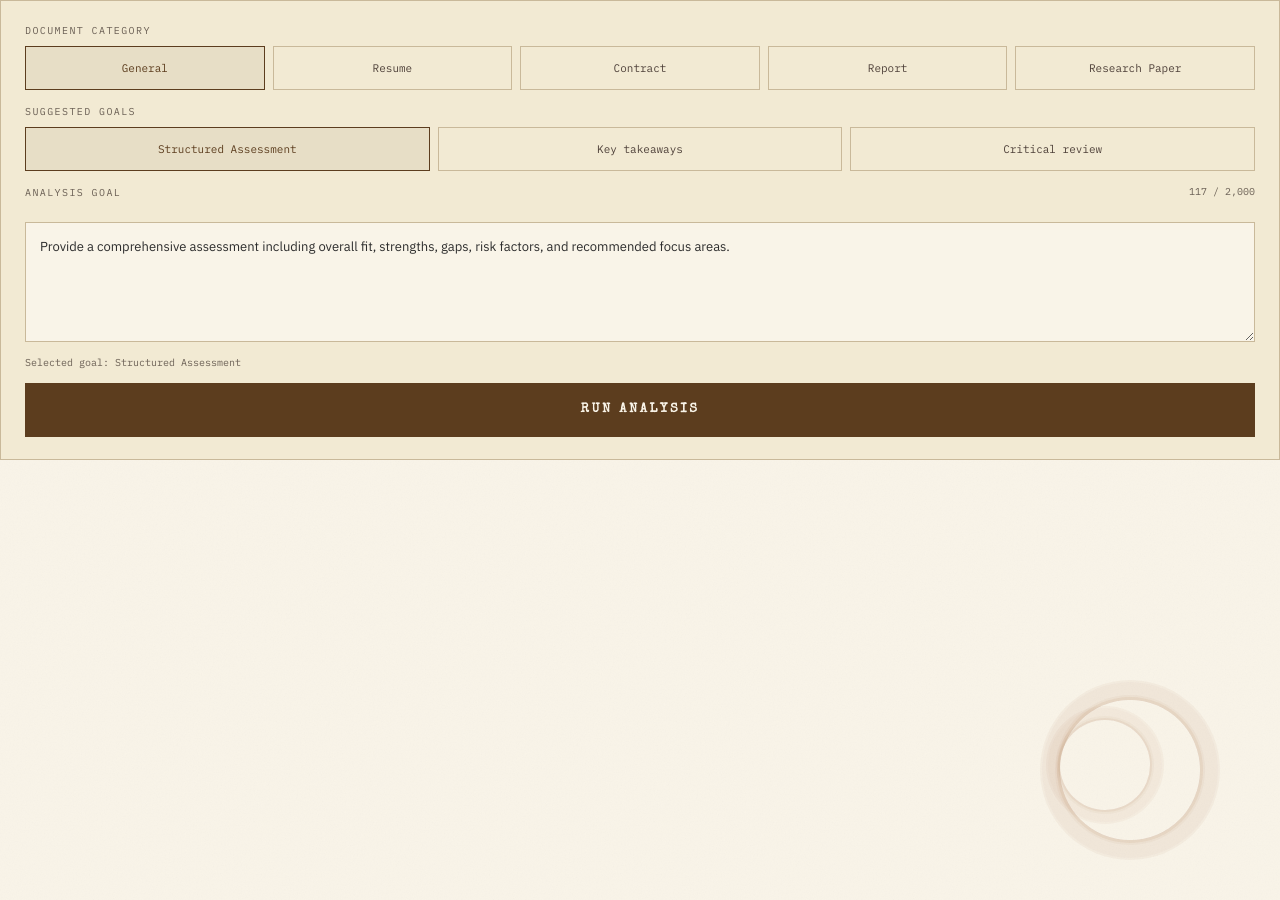
Test: AnalysisComposer › populates a category suggestion and marks manual edits as Custom
Click the button "Contract" at (640, 68), box top-left (520, 46), bottom-right (760, 90)
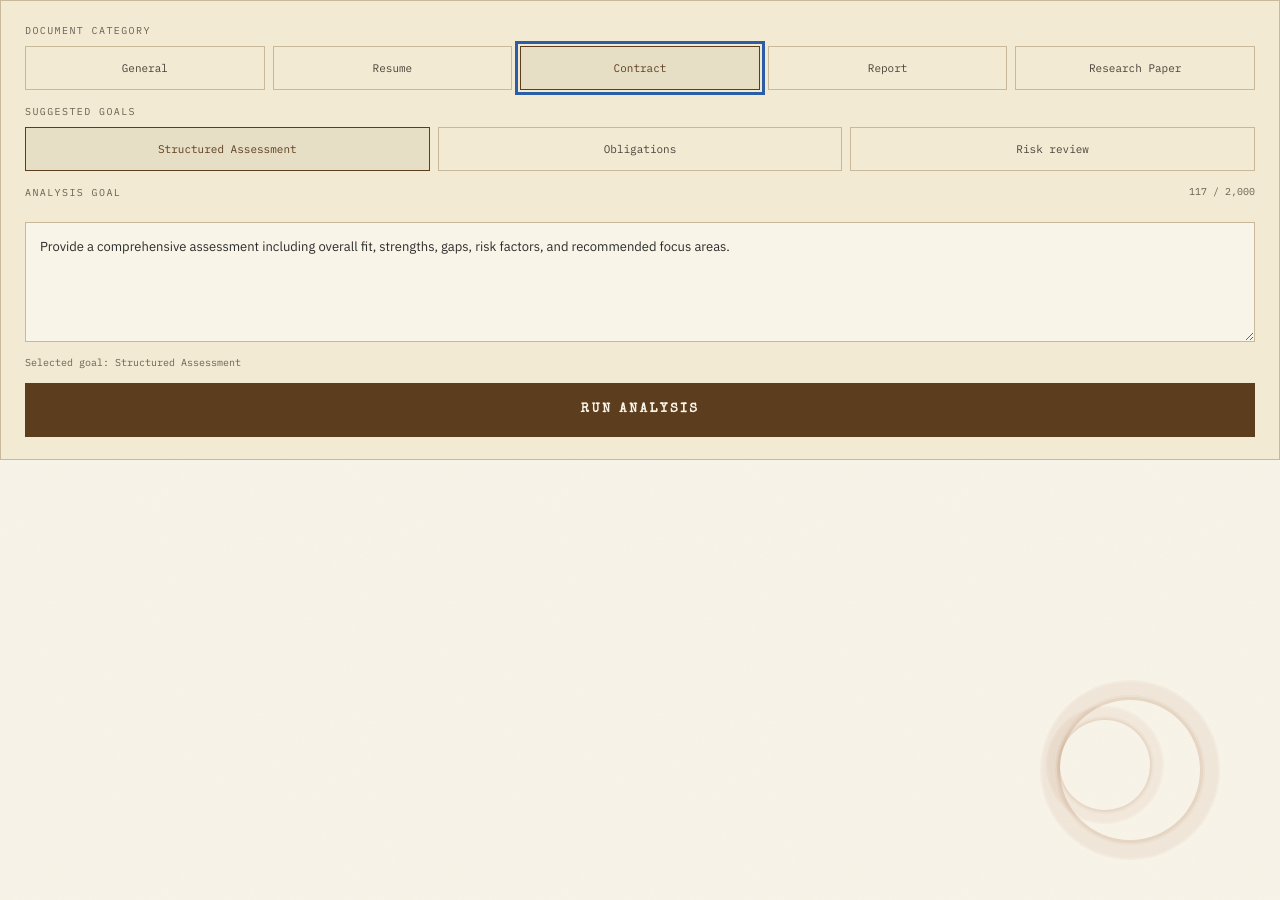
Click the button "Risk review" at (1053, 149), box top-left (850, 127), bottom-right (1255, 171)
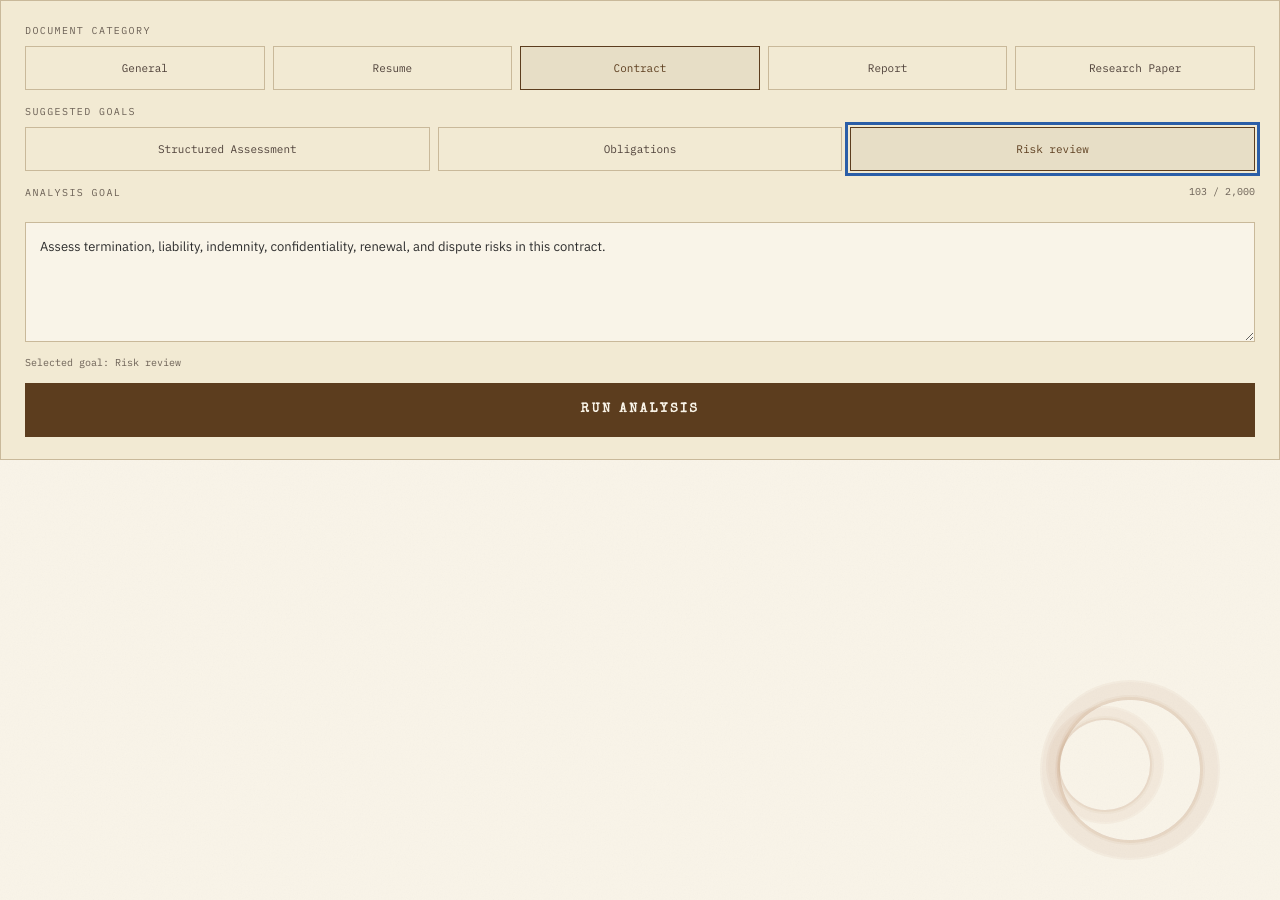
Expected: the button "Risk review" is shown, top-left (850, 127), bottom-right (1255, 171)
Type " Include governing law." into the text box labelled "Analysis goal" at (640, 282), box top-left (25, 222), bottom-right (1255, 342)
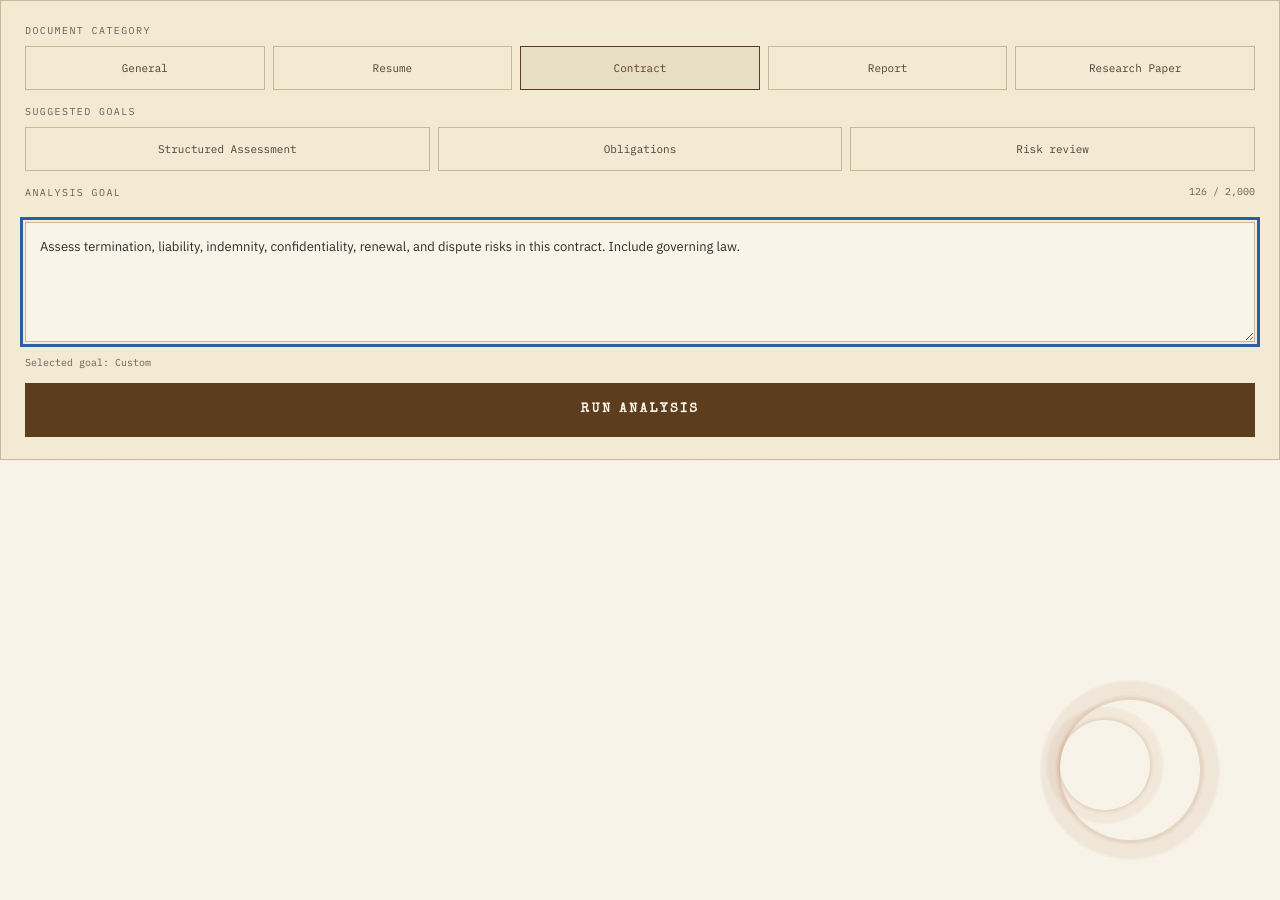
Expected: the text "Selected goal: Custom" is shown, top-left (25, 356), bottom-right (151, 369)
